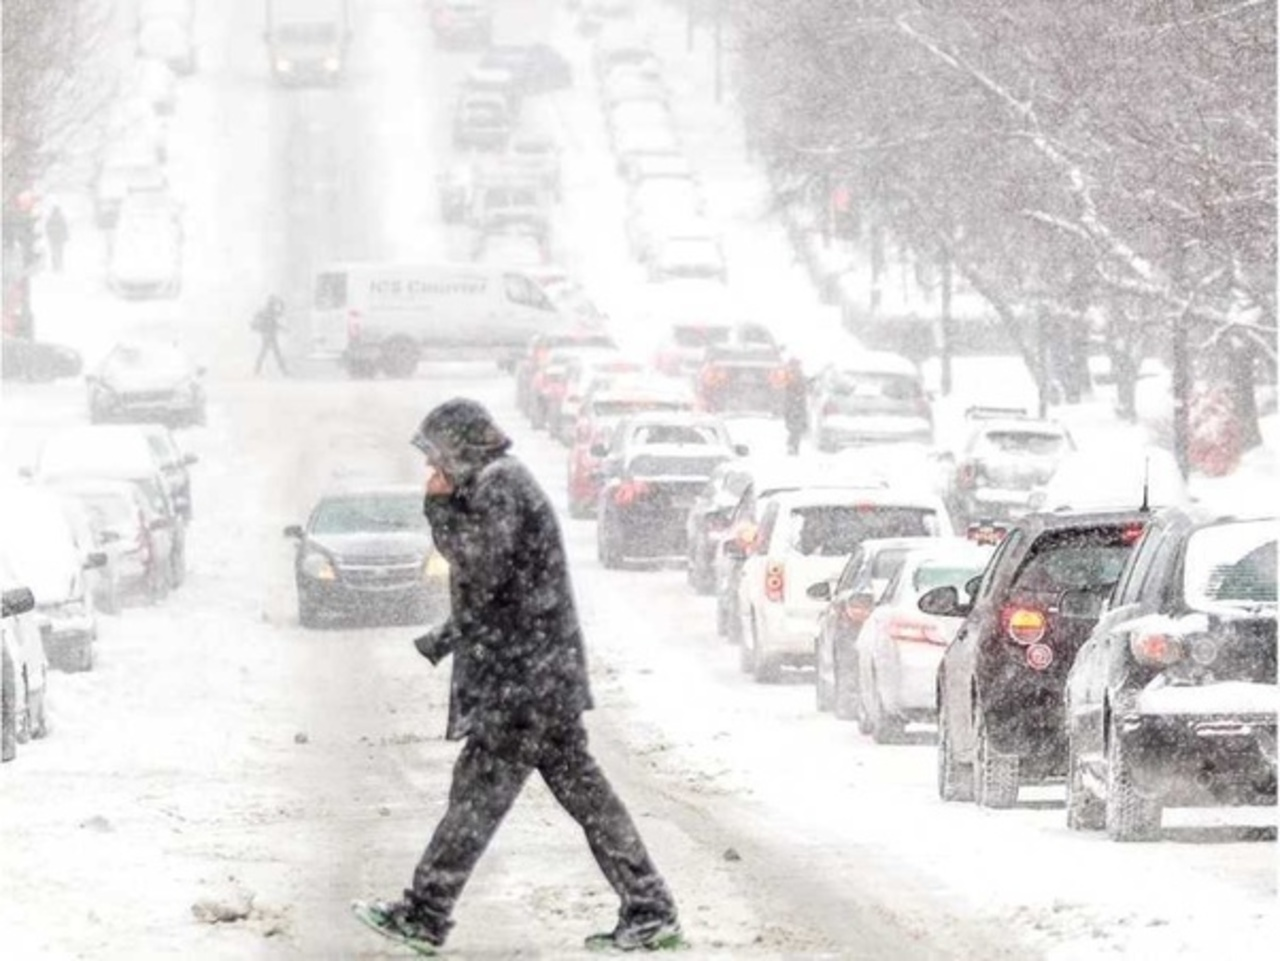car: (1073, 497, 1279, 841), (939, 515, 1146, 804), (309, 258, 584, 369), (25, 421, 188, 604), (289, 478, 435, 628), (867, 549, 973, 740), (598, 434, 737, 568), (739, 499, 838, 678), (944, 416, 1076, 538), (815, 536, 902, 720), (64, 481, 160, 624), (6, 506, 91, 667), (808, 360, 933, 456), (86, 331, 200, 428), (567, 402, 670, 506), (714, 496, 769, 645), (694, 343, 790, 421), (102, 203, 180, 295), (461, 173, 555, 243), (687, 463, 740, 584), (650, 309, 739, 380), (476, 40, 577, 96), (642, 224, 728, 288), (92, 151, 170, 217), (506, 123, 568, 200), (106, 91, 169, 165), (141, 17, 203, 73), (453, 89, 505, 134)
person: (371, 397, 678, 951), (248, 293, 287, 377), (43, 206, 70, 271)
truck: (267, 9, 347, 90)
